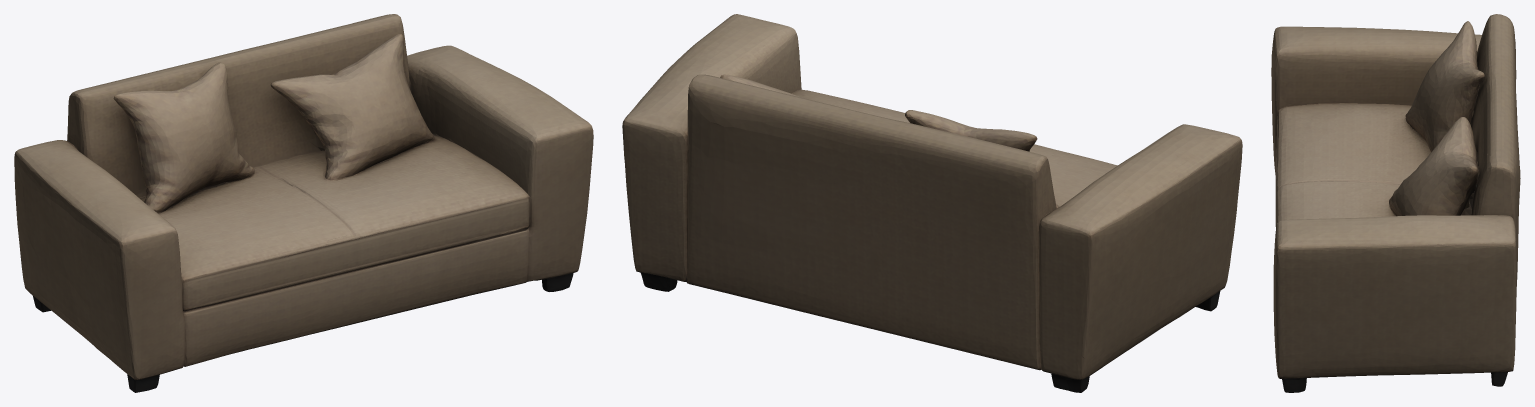
The model's file is sofa_single_2div_square.glb.
The picture shows the model from 3 angles, left to right: view 1: azimuth 30°, elevation 25°; view 2: azimuth 150°, elevation 25°; view 3: azimuth 270°, elevation 25°; orthographic projection. The views are drawn at different scales.
Visible parts, largest first — view 1: world; view 2: world; view 3: world.
Part boxes in pixels (<box>): world: <box>14,14,593,392</box>; world: <box>622,14,1242,392</box>; world: <box>1271,14,1520,392</box>.
Size of the model in its own units: 0.9941 by 0.4262 by 0.4693.
Materials: 1 (1 with a texture image).
